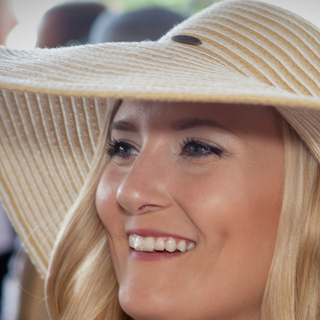eye: (172, 134, 227, 165), (104, 138, 148, 165)
